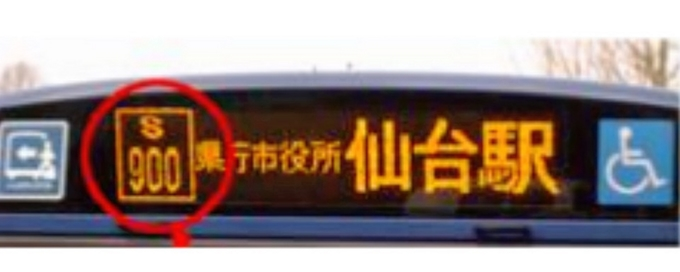destination: (101, 100, 576, 212)
